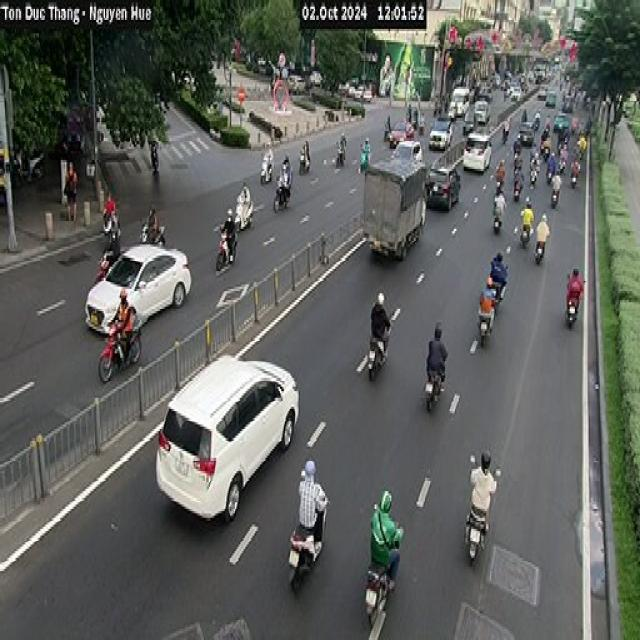car: (155, 353, 300, 522), (84, 242, 191, 336)
motorcycle: (288, 498, 328, 593), (98, 318, 142, 382), (366, 324, 390, 380), (215, 222, 239, 271), (565, 276, 585, 326), (424, 365, 445, 411), (477, 302, 495, 347), (139, 220, 165, 247), (272, 176, 292, 211), (234, 196, 252, 231), (260, 153, 272, 184), (492, 198, 502, 233), (298, 147, 310, 173), (520, 218, 531, 246), (534, 238, 545, 264), (335, 140, 345, 167)
person: (295, 458, 329, 566), (370, 489, 404, 591), (468, 449, 497, 533), (106, 286, 134, 366), (427, 320, 448, 393), (370, 291, 391, 358), (62, 160, 78, 220), (103, 189, 115, 229), (150, 138, 159, 176)
truck: (360, 154, 428, 262)
